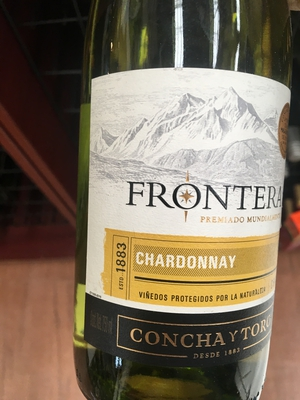frontera chardonnay: (74, 11, 292, 400)
